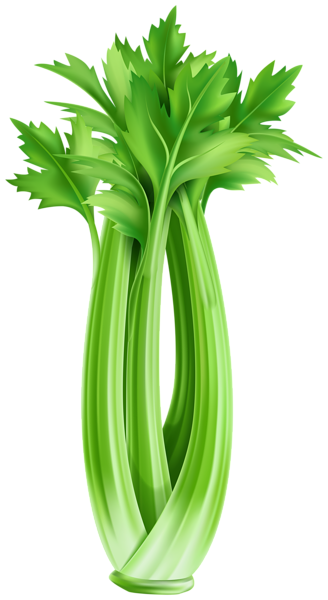Seledri: (2, 37, 325, 600)
